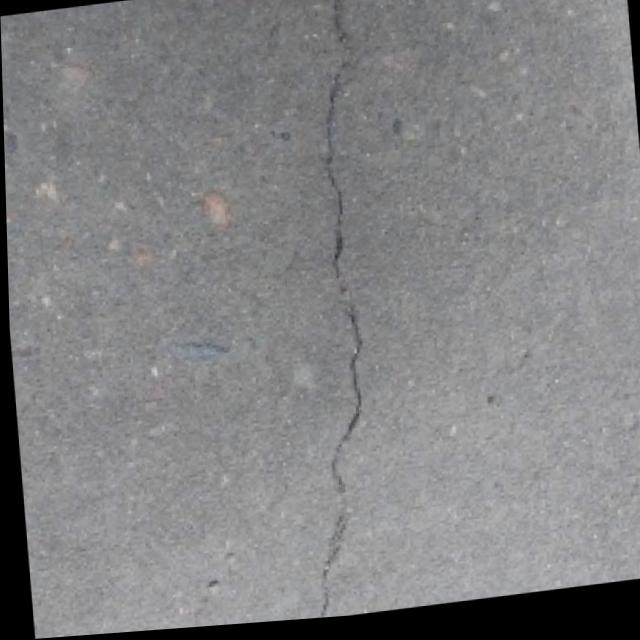Crack: (255, 0, 427, 625)
